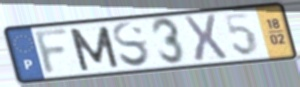3: (151, 15, 187, 68)
5: (222, 12, 261, 58)
F: (32, 26, 72, 78)
M: (66, 24, 122, 73)
S: (110, 20, 153, 69)
X: (180, 13, 231, 65)
